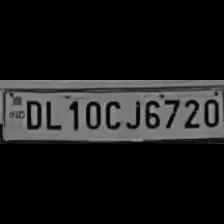0: (82, 96, 102, 130), (200, 95, 220, 127)
1: (63, 97, 81, 131)
2: (180, 96, 198, 130)
6: (140, 96, 160, 130)
7: (162, 96, 180, 130)
C: (102, 97, 120, 131)
D: (21, 96, 43, 130)
J: (123, 96, 141, 130)
L: (42, 96, 62, 130)
